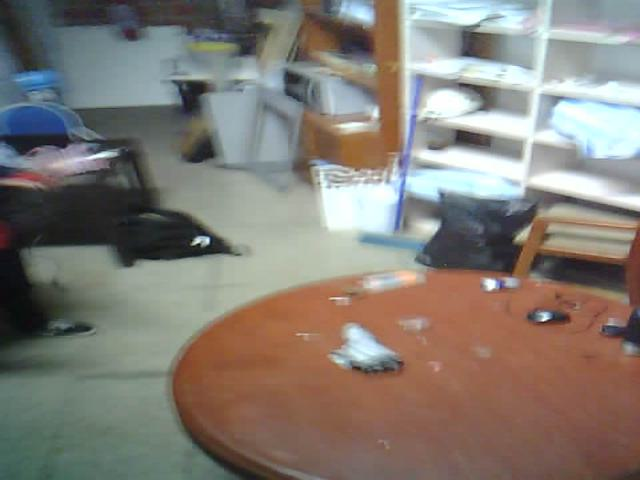person: (0, 105, 134, 352)
